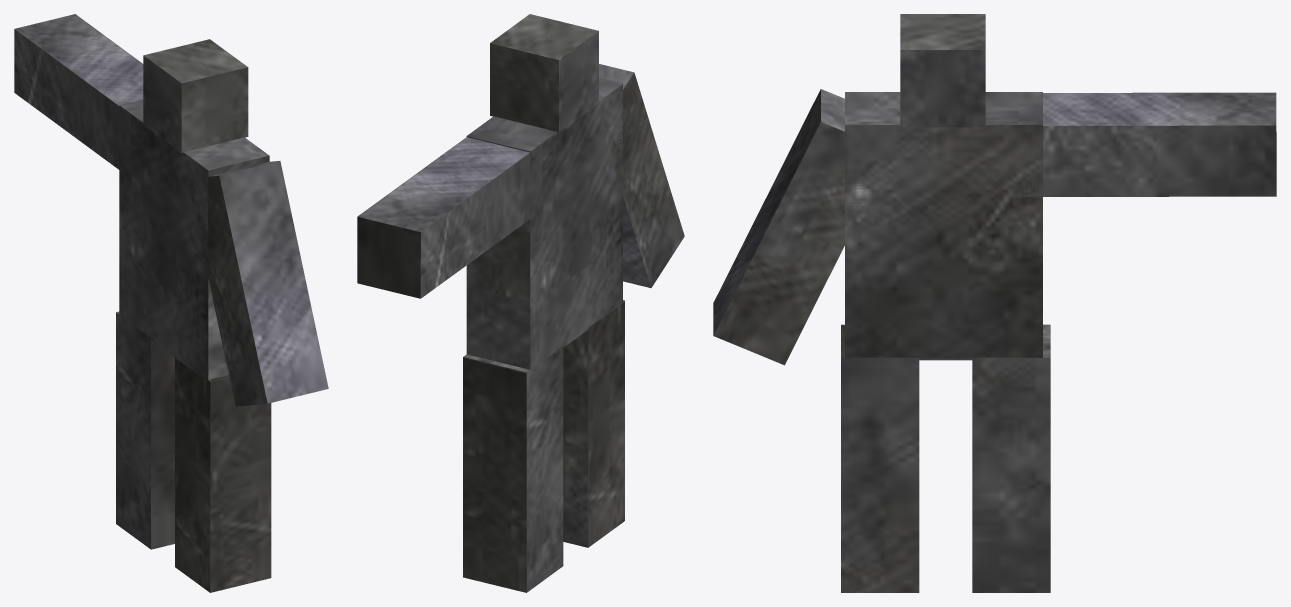
Rendered from enemyNoLight.obj.
3 views of the same model, side by side, from view 1: azimuth 30°, elevation 25°; view 2: azimuth 150°, elevation 25°; view 3: azimuth 270°, elevation 25° (orthographic). The views are drawn at different scales.
Visible parts, largest first — view 1: Cube.005_Cube.008; view 2: Cube.005_Cube.008; view 3: Cube.005_Cube.008.
Boxes of the visible parts, x1=… form: Cube.005_Cube.008: x1=14, y1=14, x2=328, y2=592; Cube.005_Cube.008: x1=357, y1=14, x2=684, y2=592; Cube.005_Cube.008: x1=713, y1=14, x2=1276, y2=592.
Bounding box in the file's own units: 0.9427 × 6.64 × 6.22.
1 material, 1 textured.
